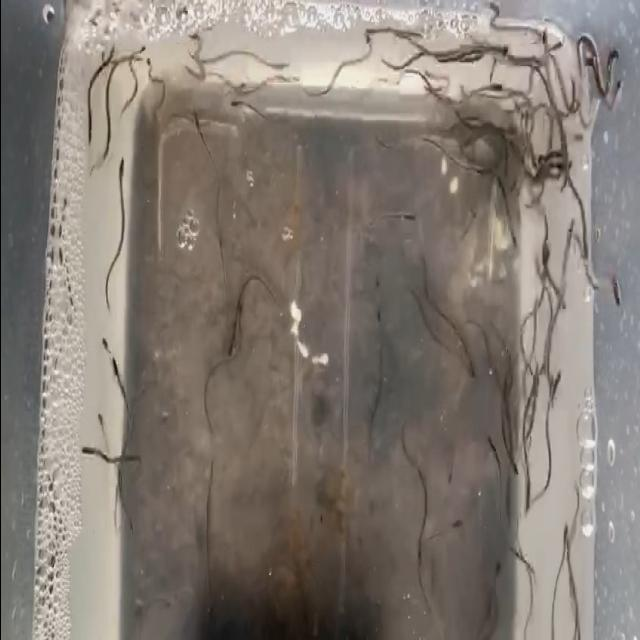inactive_glass_eel: (546, 368, 562, 414), (608, 271, 622, 319), (100, 334, 114, 382), (506, 449, 522, 484), (114, 157, 128, 197), (444, 518, 468, 541), (76, 436, 98, 461), (126, 44, 148, 68), (548, 42, 568, 68), (605, 46, 621, 78), (484, 77, 502, 105), (270, 56, 290, 80), (234, 296, 246, 336), (462, 348, 474, 386), (482, 438, 497, 468), (489, 554, 503, 586), (502, 492, 514, 528), (562, 216, 576, 246), (485, 38, 506, 58), (446, 446, 456, 488), (184, 24, 200, 50), (472, 157, 490, 180), (560, 518, 570, 556), (94, 414, 106, 444), (541, 240, 552, 272), (536, 16, 546, 51), (581, 226, 591, 260), (611, 78, 623, 106), (400, 207, 414, 230), (555, 157, 571, 177), (189, 110, 203, 132), (414, 537, 425, 565), (85, 117, 94, 150), (227, 326, 235, 358), (144, 53, 154, 77), (228, 96, 246, 109), (362, 35, 374, 52)
